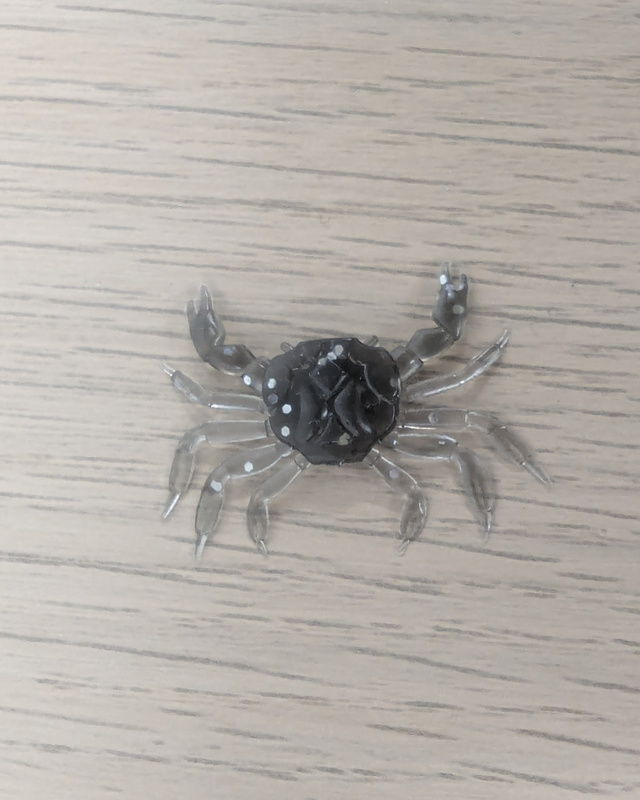crab1: (159, 259, 556, 561)
